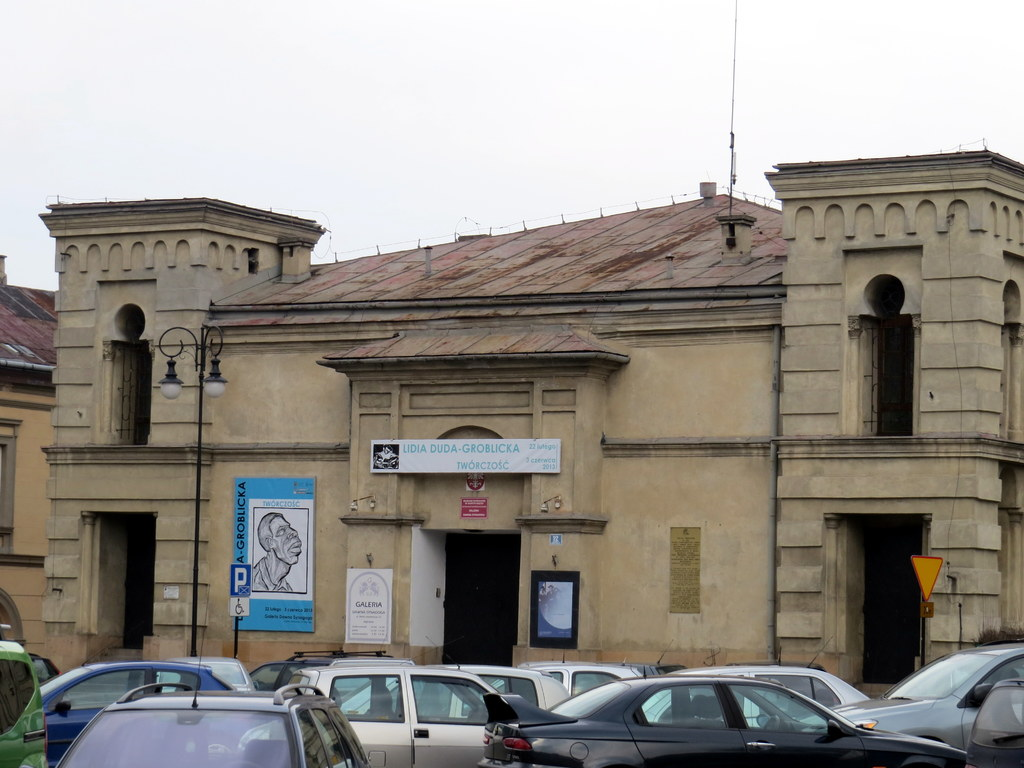Car: (0, 593, 1023, 767)
